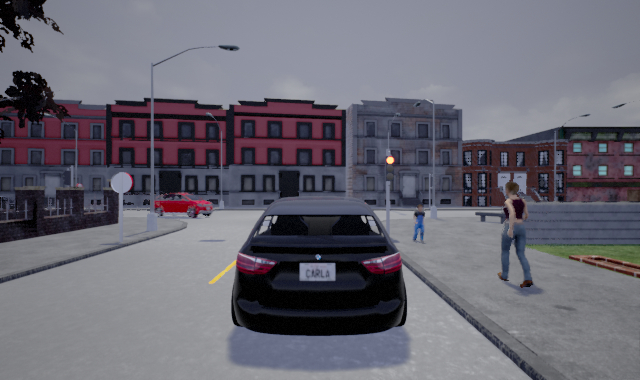pedestrian: (496, 181, 533, 288), (412, 202, 425, 244)
traffic_light: (385, 154, 394, 183)
vehicle: (230, 197, 407, 337), (149, 192, 217, 218)
